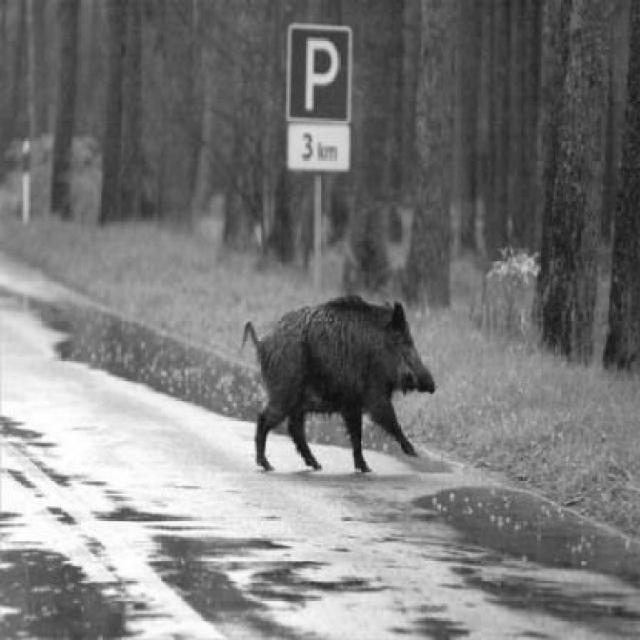Boar: (230, 209, 488, 509)
